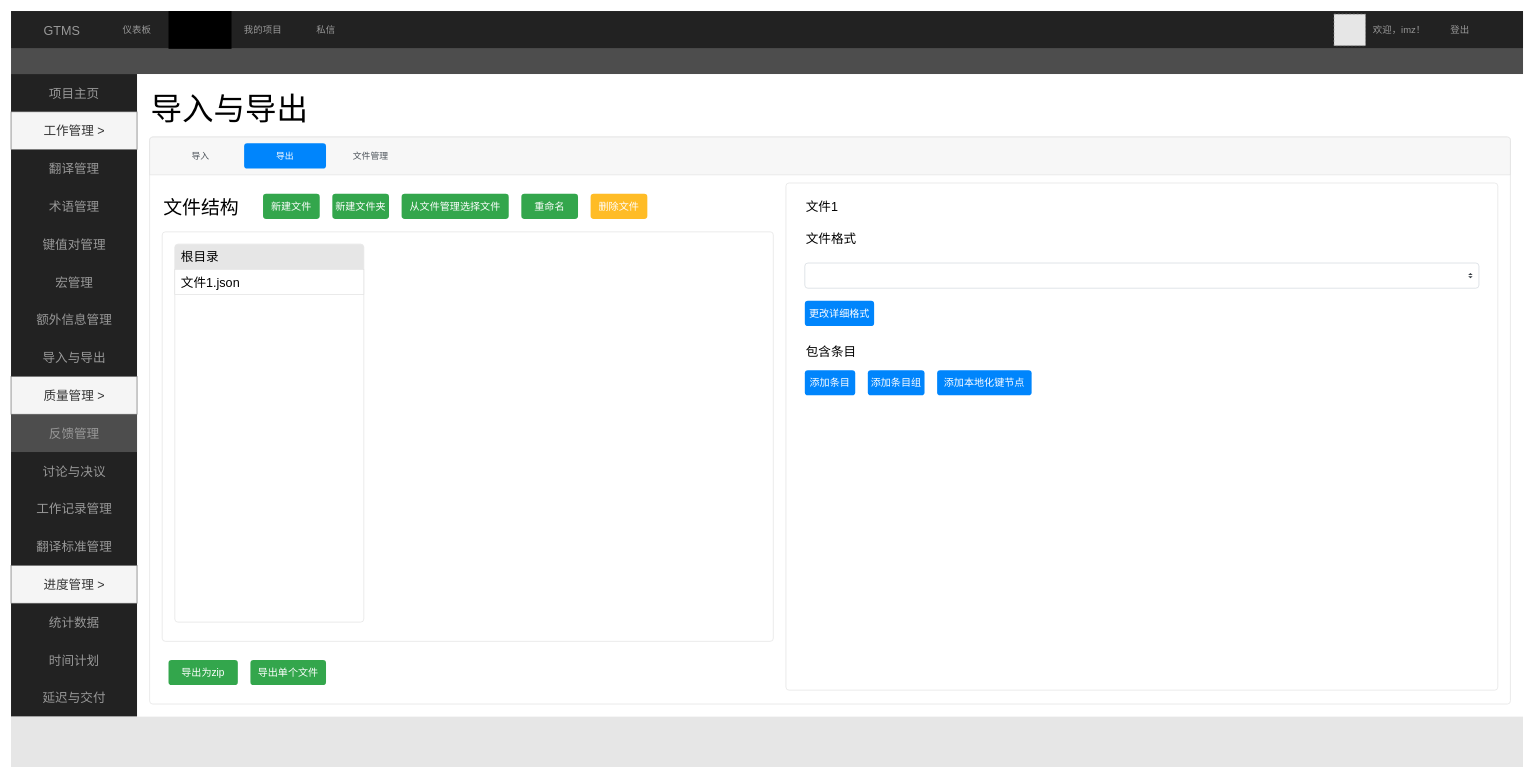
Image size: 1534x777. Some labels were removed from this diagram. Grey dashed boxes stand in for pictures. Here are the shapes that lost their labels. From the top down, the box of each, then its label:
(168, 11, 231, 49): 项目浏览
(11, 49, 1523, 74): 示例中文化项目01 / 导入与导出
(804, 262, 1479, 288): json
(11, 716, 1523, 767): Yifan Xu 毕业设计 @天津工业大学
